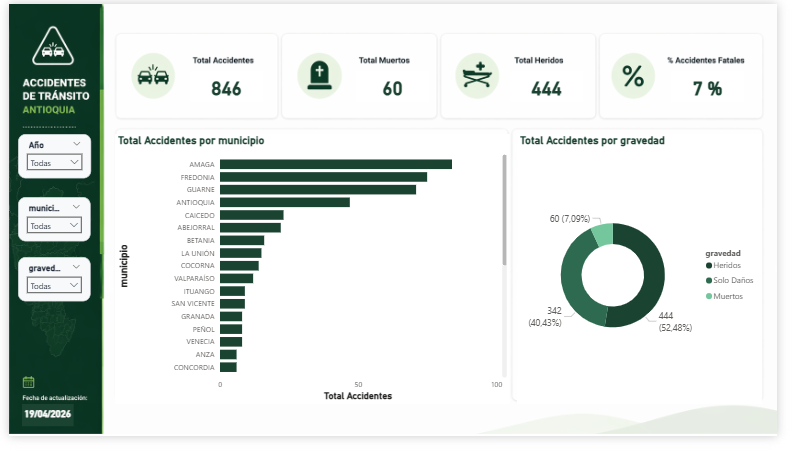

The page's visual inventory and layout, read from the dashboard file:
{"tool":"powerbi","page":{"name":"Página 1","canvas":[1280,720],"ordinal":0},"visuals":[{"type":"card","fields":{"Values":["Consulta1.Total Accidentes"]},"box":[301.7,111.7,121.7,51.7],"z":0},{"type":"card","fields":{"Values":["Consulta1.Total Muertos"]},"box":[578.3,111.7,121.7,51.7],"z":1000},{"type":"card","fields":{"Values":["Consulta1.Total Heridos"]},"box":[835,111.7,121.7,51.7],"z":2000},{"type":"card","fields":{"Values":["Consulta1.%Accidentes fatales"]},"box":[1103.3,111.7,121.7,51.7],"z":3000},{"type":"clusteredBarChart","fields":{"Category":["Consulta1.municipio"],"Y":["Consulta1.Total Accidentes"]},"box":[176.7,216.7,658.3,450],"z":4000},{"type":"donutChart","fields":{"Category":["Consulta1.gravedad"],"Y":["Consulta1.Total Accidentes"]},"box":[846.7,216.7,408.3,450],"z":5000},{"type":"shape","box":[20.9,666.4,86.4,37.3],"z":6000},{"type":"card","fields":{"Values":["Consulta1.Hoy"]},"box":[14.7,658.3,98.4,51.4],"z":7000},{"type":"slicer","fields":{"Values":["Consulta1.fecha_accidente.Variación.Jerarquía de fechas.Año"]},"box":[15.6,216.7,129.4,74.1],"z":8000,"group":"g1"},{"type":"slicer","fields":{"Values":["Consulta1.municipio"]},"box":[15,322,128.5,74.5],"z":9000,"group":"g1"},{"type":"slicer","fields":{"Values":["Consulta1.gravedad"]},"box":[15,422.2,128.5,74.5],"z":10000,"group":"g2"},{"type":"group","id":"g1","title":"Grupo 1","box":[15,216.7,130,179.9],"z":10001,"group":"g2"},{"type":"group","id":"g2","title":"Grupo 2","box":[15,216.7,128.3,280],"z":10002}]}

Visuals, with their boxes in screenshot pixels (x1, y1, x2, y2), scaled from the page's 1280x720 canvas onto the 810x458 screenshot:
card - Consulta1.Total Accidentes: box=[191, 71, 268, 104]
card - Consulta1.Total Muertos: box=[366, 71, 443, 104]
card - Consulta1.Total Heridos: box=[528, 71, 605, 104]
card - Consulta1.%Accidentes fatales: box=[698, 71, 775, 104]
clusteredBarChart - Consulta1.municipio x Consulta1.Total Accidentes: box=[112, 138, 528, 424]
donutChart - Consulta1.gravedad x Consulta1.Total Accidentes: box=[536, 138, 794, 424]
shape: box=[13, 424, 68, 448]
card - Consulta1.Hoy: box=[9, 419, 72, 451]
slicer - Consulta1.fecha_accidente.Variación.Jerarquía de fechas.Año: box=[10, 138, 92, 185]
slicer - Consulta1.municipio: box=[9, 205, 91, 252]
slicer - Consulta1.gravedad: box=[9, 269, 91, 316]
"Grupo 1" group: box=[9, 138, 92, 252]
"Grupo 2" group: box=[9, 138, 91, 316]
